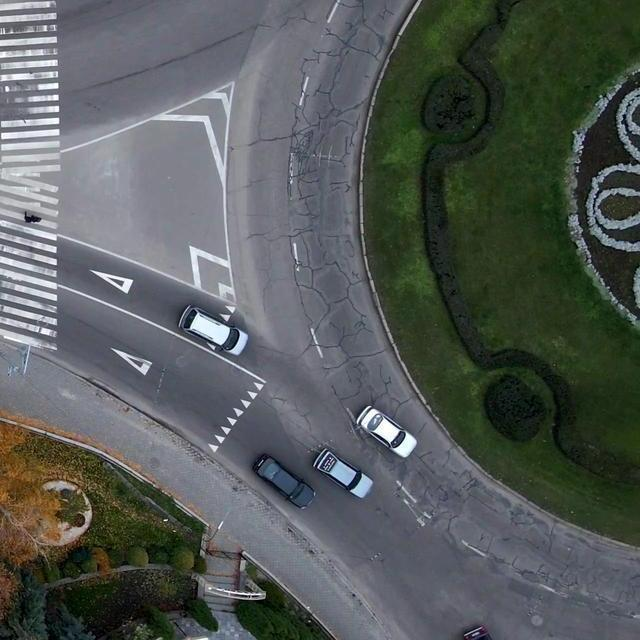Car: (253, 454, 317, 508), (178, 306, 248, 354), (312, 449, 374, 498), (358, 406, 418, 456), (462, 626, 492, 636)
Motorcycle: (24, 210, 42, 223)
